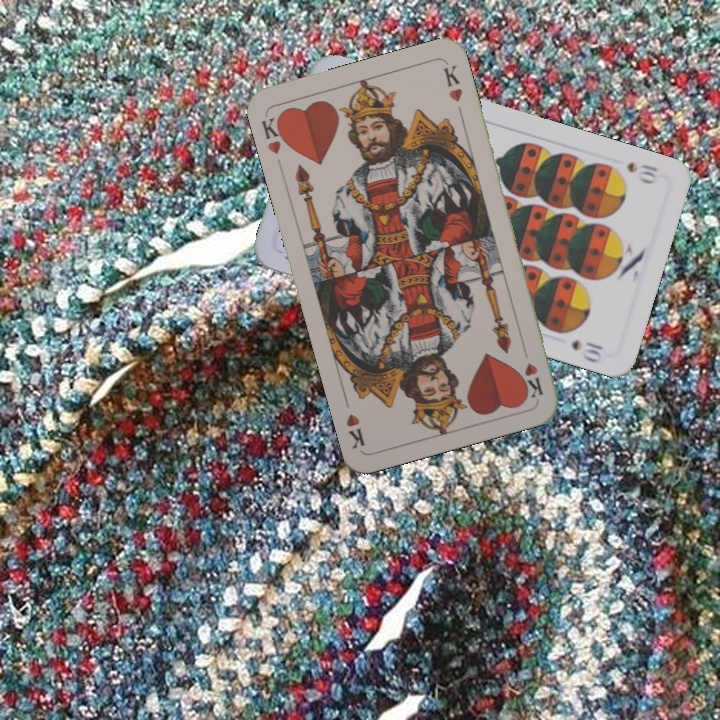HK: (257, 111, 291, 157), (520, 358, 546, 401)
S10: (623, 157, 661, 187)
